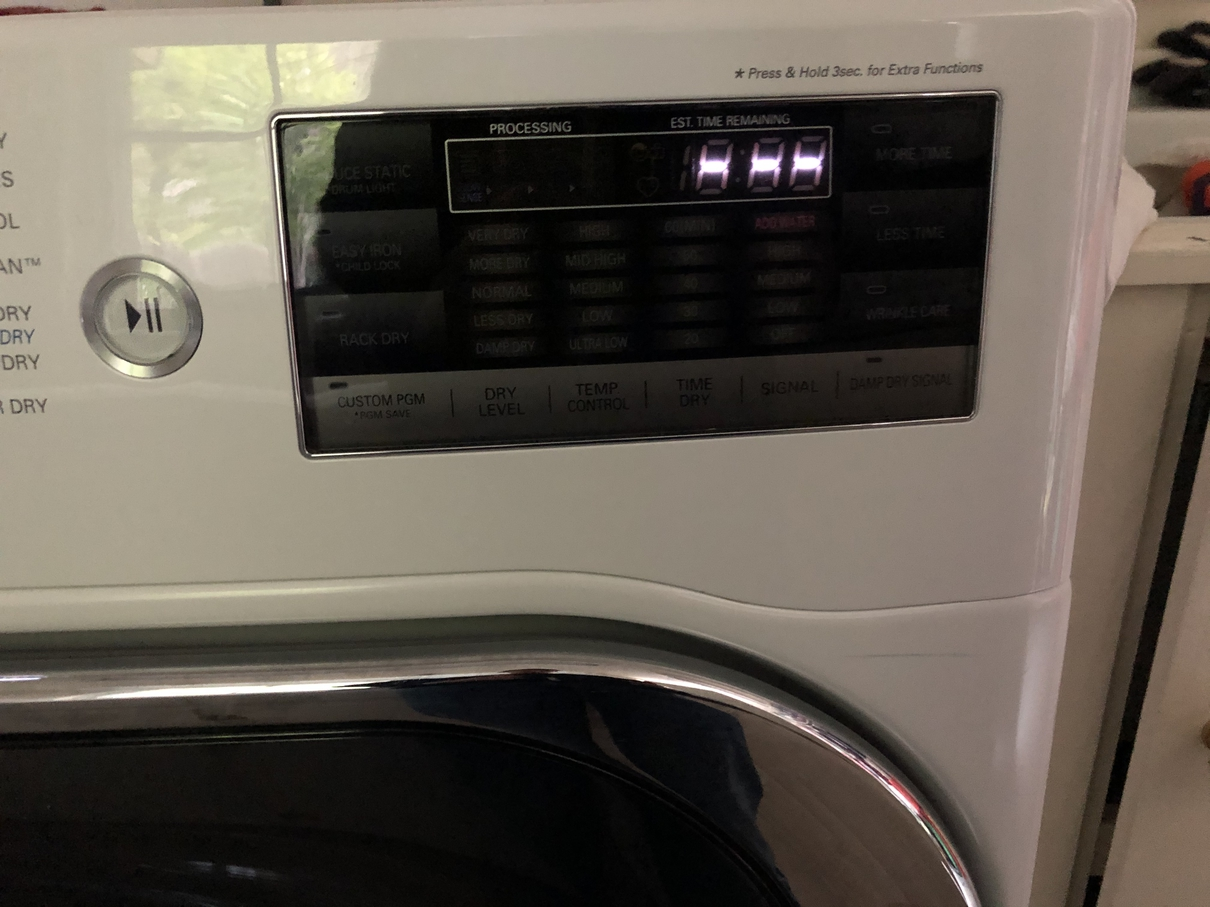status: (431, 107, 844, 217)
